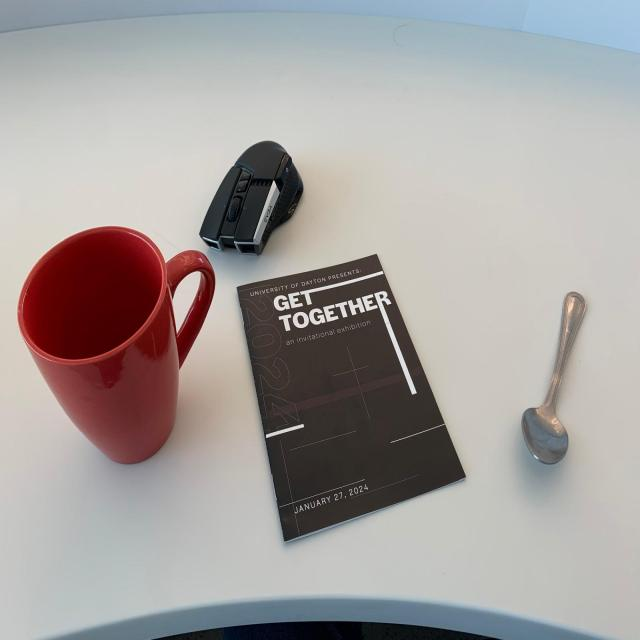Cup: (14, 212, 221, 468)
Mouse: (196, 134, 336, 267)
Spoon: (514, 281, 607, 471)
